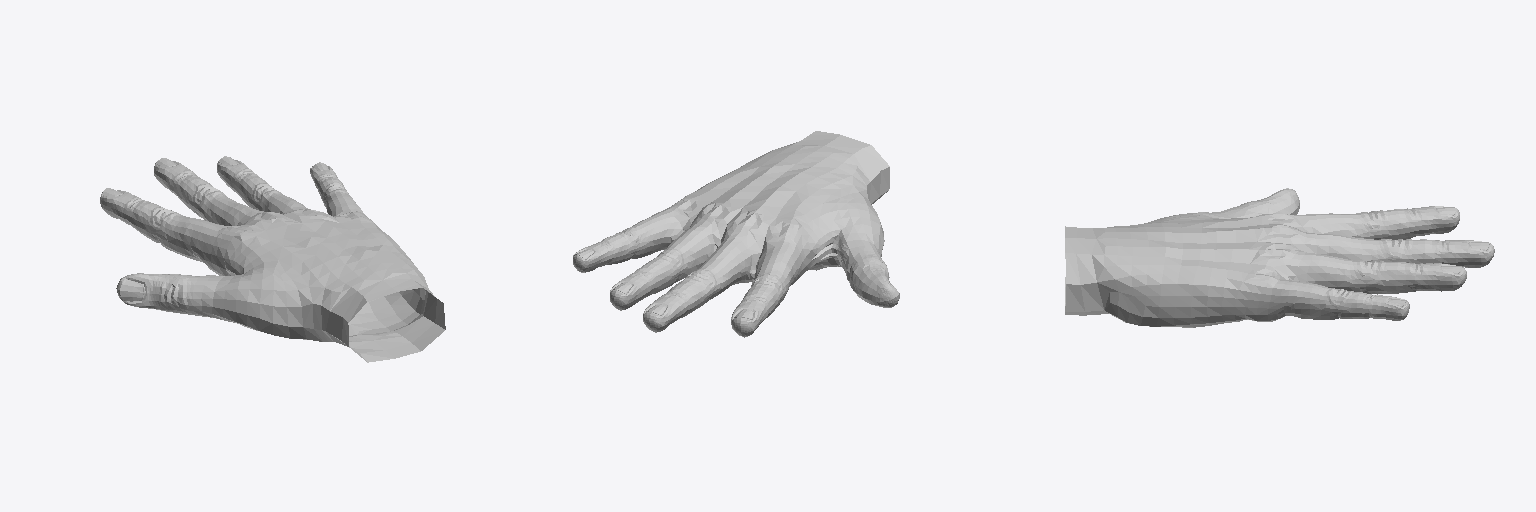
The model's file is hand.obj.
3 renders of one model, left to right at view 1: azimuth 30°, elevation 25°; view 2: azimuth 150°, elevation 25°; view 3: azimuth 270°, elevation 25°, orthographic.
Parts seen in each view (by area): view 1: Hand; view 2: Hand; view 3: Hand.
Part boxes in pixels (x1,y1,x2,y2): Hand: (100, 156, 445, 362); Hand: (573, 131, 899, 337); Hand: (1065, 188, 1494, 327).
Bounding box in the file's own units: 15.59 × 4.07 × 21.63.